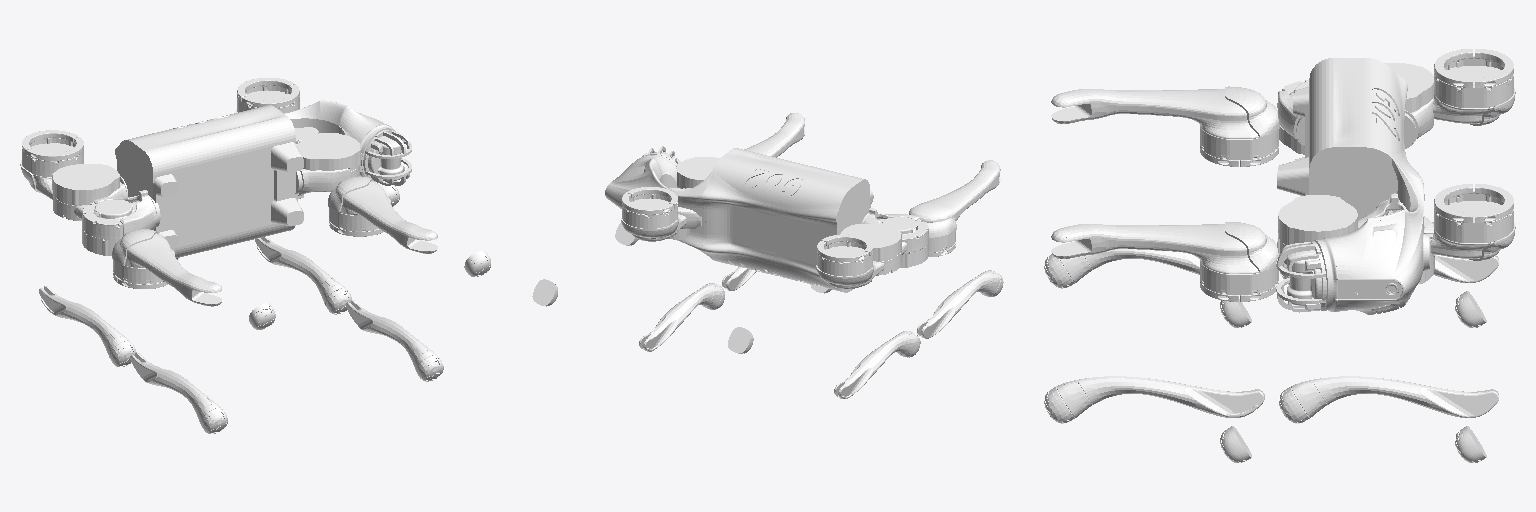
--- What the picture shows (computed from the rendered views, not written in the file) ---
Views: 3 orthographic renders of the robot side by side, from view 1: azimuth 30°, elevation 25°; view 2: azimuth 150°, elevation 25°; view 3: azimuth 270°, elevation 25°.
Robot: go2_description — 29 links, 28 joints (12 revolute, 16 fixed); root link base; default pose: all joints at 0 but 4 set to mid-range because 0 is outside their limits (FL_calf_joint = -1.78, FR_calf_joint = -1.78, RL_calf_joint = -1.78, RR_calf_joint = -1.78).
Visible links, largest first — view 1: base, FR_thigh, RR_thigh, RR_hip, FR_hip, RL_thigh, RL_hip, RR_calf, FR_calf, RL_calf, FL_calf, FL_thigh (+2 smaller); view 2: base, RR_thigh, RL_thigh, FL_thigh, FL_calf, RR_calf, RL_calf, RR_hip, RL_hip, FR_thigh, FR_hip, RL_foot (+2 smaller); view 3: base, RR_thigh, FR_thigh, FL_thigh, RL_thigh, FR_calf, FL_calf, FR_hip, RR_calf, RL_hip, RL_calf, RR_hip (+5 smaller).
Boxes of the visible links, left/top/right/bottom form: base: left=115, top=100, right=411, bottom=257; FR_thigh: left=328, top=176, right=437, bottom=253; RR_thigh: left=112, top=229, right=221, bottom=306; RR_hip: left=82, top=190, right=160, bottom=255; FR_hip: left=295, top=133, right=360, bottom=198; RL_thigh: left=20, top=130, right=128, bottom=220; RL_hip: left=52, top=164, right=127, bottom=220; RR_calf: left=130, top=353, right=227, bottom=433; FR_calf: left=346, top=300, right=443, bottom=381; RL_calf: left=39, top=286, right=136, bottom=366; FL_calf: left=255, top=237, right=351, bottom=314; FL_thigh: left=236, top=78, right=299, bottom=142; base: left=605, top=146, right=873, bottom=292; RR_thigh: left=909, top=160, right=1000, bottom=256; RL_thigh: left=816, top=228, right=916, bottom=288; FL_thigh: left=621, top=187, right=686, bottom=241; FL_calf: left=639, top=283, right=724, bottom=351; RR_calf: left=917, top=270, right=1003, bottom=338; RL_calf: left=834, top=331, right=920, bottom=398; RR_hip: left=861, top=208, right=928, bottom=267; RL_hip: left=840, top=224, right=901, bottom=275; FR_thigh: left=744, top=113, right=804, bottom=157; FR_hip: left=677, top=157, right=719, bottom=188; RL_foot: left=728, top=327, right=753, bottom=353; base: left=1276, top=58, right=1429, bottom=314; RR_thigh: left=1051, top=86, right=1279, bottom=166; FR_thigh: left=1051, top=222, right=1278, bottom=301; FL_thigh: left=1431, top=184, right=1515, bottom=260; RL_thigh: left=1289, top=49, right=1515, bottom=125; FR_calf: left=1044, top=376, right=1264, bottom=423; FL_calf: left=1279, top=376, right=1498, bottom=423; FR_hip: left=1277, top=195, right=1357, bottom=264; RR_calf: left=1044, top=249, right=1199, bottom=288; RL_hip: left=1385, top=63, right=1434, bottom=148; RL_calf: left=1280, top=255, right=1498, bottom=284; RR_hip: left=1277, top=80, right=1308, bottom=154.
Size in the robot's own frame: 0.6651 by 0.5701 by 0.3362 metres.
Meshes: 7 distinct files referenced, 17 mesh visuals loaded (7 binary STL).

The robot description file, URDF, robot "go2_description":
<?xml version="1.0" encoding="utf-8"?>
<!-- This URDF was automatically created by SolidWorks to URDF Exporter! Originally created by
Stephen Brawner ([email redacted]) 
     Commit Version: 1.6.0-4-g7f85cfe  Build Version: 1.6.7995.38578
     For more information, please see http://wiki.ros.org/sw_urdf_exporter -->
<robot
  name="go2_description">
  <link
    name="base">
    <inertial>
      <origin
        xyz="0.021112 0 -0.005366"
        rpy="0 0 0" />
      <mass
        value="6.921" />
      <inertia
        ixx="0.02448"
        ixy="0.00012166"
        ixz="0.0014849"
        iyy="0.098077"
        iyz="-3.12E-05"
        izz="0.107" />
    </inertial>
    <visual>
      <origin
        xyz="0 0 0"
        rpy="0 0 0" />
      <geometry>
        <mesh
          filename="package://ltm_go2_description/meshes/base.stl" />
      </geometry>
      <material
        name="">
        <color
          rgba="1 1 1 1" />
      </material>
    </visual>
    <collision>
      <origin rpy="0 0 0" xyz="0 0 0" />
      <geometry>
        <box size="0.3762 0.0935 0.114" />
      </geometry>
    </collision>
  </link>
  <link
    name="Head_upper">
    <inertial>
      <origin
        xyz="0 0 0"
        rpy="0 0 0" />
      <mass
        value="0.001" />
      <inertia
        ixx="9.6e-06"
        ixy="0"
        ixz="0"
        iyy="9.6e-06"
        iyz="0"
        izz="9.6e-06" />
    </inertial>
    <collision>
      <origin
        xyz="0 0 0"
        rpy="0 0 0" />
      <geometry>
        <cylinder radius="0.05" length="0.09" />
      </geometry>
    </collision>
  </link>
  <joint
    name="Head_upper_joint"
    type="fixed" dont_collapse="true">
    <origin
      xyz="0.285 0 0.01"
      rpy="0 0 0" />
    <parent
      link="base" />
    <child
      link="Head_upper" />
    <axis
      xyz="0 0 0" />
  </joint>
  <link
    name="Head_lower">
    <inertial>
      <origin
        xyz="0 0 0"
        rpy="0 0 0" />
      <mass
        value="0.001" />
      <inertia
        ixx="9.6e-06"
        ixy="0"
        ixz="0"
        iyy="9.6e-06"
        iyz="0"
        izz="9.6e-06" />
    </inertial>
    <collision>
      <origin
        xyz="0 0 0"
        rpy="0 0 0" />
      <geometry>
        <sphere radius="0.047" />
      </geometry>
    </collision>
  </link>
  <joint
    name="Head_lower_joint"
    type="fixed" dont_collapse="true">
    <origin
      xyz="0.008 0 -0.07"
      rpy="0 0 0" />
    <parent
      link="Head_upper" />
    <child
      link="Head_lower" />
    <axis
      xyz="0 0 0" />
  </joint>
  <link
    name="FL_hip">
    <inertial>
      <origin
        xyz="-0.0054 0.00194 -0.000105"
        rpy="0 0 0" />
      <mass
        value="0.678" />
      <inertia
        ixx="0.00048"
        ixy="-3.01E-06"
        ixz="1.11E-06"
        iyy="0.000884"
        iyz="-1.42E-06"
        izz="0.000596" />
    </inertial>
    <visual>
      <origin
        xyz="0 0 0"
        rpy="0 0 0" />
      <geometry>
        <mesh
          filename="package://ltm_go2_description/meshes/hip.stl" />
      </geometry>
      <material
        name="">
        <color
          rgba="1 1 1 1" />
      </material>
    </visual>
    <collision>
      <origin rpy="1.5707963267948966 0 0" xyz="0 0.08 0" />
      <geometry>
        <cylinder length="0.04" radius="0.046" />
      </geometry>
    </collision>
  </link>
  <joint
    name="FL_hip_joint"
    type="revolute">
    <origin
      xyz="0.1934 0.0465 0"
      rpy="0 0 0" />
    <parent
      link="base" />
    <child
      link="FL_hip" />
    <axis
      xyz="1 0 0" />
    <limit
      lower="-1.0472"
      upper="1.0472"
      effort="23.7"
      velocity="30.1" />
  </joint>
  <link
    name="FL_thigh">
    <inertial>
      <origin
        xyz="-0.00374 -0.0223 -0.0327"
        rpy="0 0 0" />
      <mass
        value="1.152" />
      <inertia
        ixx="0.00584"
        ixy="8.72E-05"
        ixz="-0.000289"
        iyy="0.0058"
        iyz="0.000808"
        izz="0.00103" />
    </inertial>
    <visual>
      <origin
        xyz="0 0 0"
        rpy="0 0 0" />
      <geometry>
        <mesh
          filename="package://ltm_go2_description/meshes/thigh.stl" />
      </geometry>
      <material
        name="">
        <color
          rgba="1 1 1 1" />
      </material>
    </visual>
    <collision>
      <origin rpy="0 1.5707963267948966 0" xyz="0 0 -0.1065" />
      <geometry>
        <box size="0.213 0.0245 0.034" />
      </geometry>
    </collision>
  </link>
  <joint
    name="FL_thigh_joint"
    type="revolute">
    <origin
      xyz="0 0.0955 0"
      rpy="0 0 0" />
    <parent
      link="FL_hip" />
    <child
      link="FL_thigh" />
    <axis
      xyz="0 1 0" />
    <limit
      lower="-1.5708"
      upper="3.4907"
      effort="23.7"
      velocity="30.1" />
  </joint>
  <link
    name="FL_calf">
    <inertial>
      <origin
        xyz="0.00548 -0.000975 -0.115"
        rpy="0 0 0" />
      <mass
        value="0.154" />
      <inertia
        ixx="0.00108"
        ixy="3.4E-07"
        ixz="1.72E-05"
        iyy="0.0011"
        iyz="8.28E-06"
        izz="3.29E-05" />
    </inertial>
    <visual>
      <origin
        xyz="0 0 0"
        rpy="0 0 0" />
      <geometry>
        <mesh
          filename="package://ltm_go2_description/meshes/calf.stl" />
      </geometry>
      <material
        name="">
        <color
          rgba="1 1 1 1" />
      </material>
    </visual>
    <collision>
      <origin rpy="0 -0.21 0" xyz="0.008 0 -0.06" />
      <geometry>
        <cylinder length="0.12" radius="0.012" />
      </geometry>
    </collision>
  </link>
  <joint
    name="FL_calf_joint"
    type="revolute">
    <origin
      xyz="0 0 -0.213"
      rpy="0 0 0" />
    <parent
      link="FL_thigh" />
    <child
      link="FL_calf" />
    <axis
      xyz="0 1 0" />
    <limit
      lower="-2.7227"
      upper="-0.83776"
      effort="45.43"
      velocity="15.70" />
  </joint>
  <link
    name="FL_calflower">
    <collision>
      <origin rpy="0 0 0" xyz="0 0 0" />
      <geometry>
        <cylinder length="0.065" radius="0.011" />
      </geometry>
    </collision>
  </link>
  <joint
    name="FL_calflower_joint"
    type="fixed">
    <origin
      xyz="0.020 0 -0.148"
      rpy="0 0.05 0" />
    <parent
      link="FL_calf" />
    <child
      link="FL_calflower" />
    <axis
      xyz="0 0 0" />
  </joint>
  <link
    name="FL_calflower1">
    <collision>
      <origin rpy="0 0 0" xyz="0 0 0" />
      <geometry>
        <cylinder length="0.03" radius="0.0155" />
      </geometry>
    </collision>
  </link>
  <joint
    name="FL_calflower1_joint"
    type="fixed">
    <origin
      xyz="-0.01 0 -0.04"
      rpy="0 0.48 0" />
    <parent
      link="FL_calflower" />
    <child
      link="FL_calflower1" />
    <axis
      xyz="0 0 0" />
  </joint>
  <link
    name="FL_foot">
    <inertial>
      <origin
        xyz="0 0 0"
        rpy="0 0 0" />
      <mass
        value="0.04" />
      <inertia
        ixx="9.6e-06"
        ixy="0"
        ixz="0"
        iyy="9.6e-06"
        iyz="0"
        izz="9.6e-06" />
    </inertial>
    <visual>
      <origin
        xyz="0 0 0"
        rpy="0 0 0" />
      <geometry>
        <mesh
          filename="package://ltm_go2_description/meshes/foot.stl" />
      </geometry>
      <material
        name="">
        <color
          rgba="1 1 1 1" />
      </material>
    </visual>
    <collision>
      <origin rpy="0 0 0" xyz="-0.002 0 0" />
      <geometry>
        <sphere radius="0.022" />
      </geometry>
    </collision>
  </link>
  <joint
    name="FL_foot_joint"
    type="fixed" dont_collapse="true">
    <origin
      xyz="0 0 -0.213"
      rpy="0 0 0" />
    <parent
      link="FL_calf" />
    <child
      link="FL_foot" />
    <axis
      xyz="0 0 0" />
  </joint>
  <link
    name="FR_hip">
    <inertial>
      <origin
        xyz="-0.0054 -0.00194 -0.000105"
        rpy="0 0 0" />
      <mass
        value="0.678" />
      <inertia
        ixx="0.00048"
        ixy="3.01E-06"
        ixz="1.11E-06"
        iyy="0.000884"
        iyz="1.42E-06"
        izz="0.000596" />
    </inertial>
    <visual>
      <origin
        xyz="0 0 0"
        rpy="3.1415 0 0" />
      <geometry>
        <mesh
          filename="package://ltm_go2_description/meshes/hip.stl" />
      </geometry>
      <material
        name="">
        <color
          rgba="1 1 1 1" />
      </material>
    </visual>
    <collision>
      <origin rpy="1.5707963267948966 0 0" xyz="0 -0.08 0" />
      <geometry>
        <cylinder length="0.04" radius="0.046" />
      </geometry>
    </collision>
  </link>
  <joint
    name="FR_hip_joint"
    type="revolute">
    <origin
      xyz="0.1934 -0.0465 0"
      rpy="0 0 0" />
    <parent
      link="base" />
    <child
      link="FR_hip" />
    <axis
      xyz="1 0 0" />
    <limit
      lower="-1.0472"
      upper="1.0472"
      effort="23.7"
      velocity="30.1" />
  </joint>
  <link
    name="FR_thigh">
    <inertial>
      <origin
        xyz="-0.00374 0.0223 -0.0327"
        rpy="0 0 0" />
      <mass
        value="1.152" />
      <inertia
        ixx="0.00584"
        ixy="-8.72E-05"
        ixz="-0.000289"
        iyy="0.0058"
        iyz="-0.000808"
        izz="0.00103" />
    </inertial>
    <visual>
      <origin
        xyz="0 0 0"
        rpy="0 0 0" />
      <geometry>
        <mesh
          filename="package://ltm_go2_description/meshes/thigh_mirror.stl" />
      </geometry>
      <material
        name="">
        <color
          rgba="1 1 1 1" />
      </material>
    </visual>
    <collision>
      <origin rpy="0 1.5707963267948966 0" xyz="0 0 -0.1065" />
      <geometry>
        <box size="0.213 0.0245 0.034" />
      </geometry>
    </collision>
  </link>
  <joint
    name="FR_thigh_joint"
    type="revolute">
    <origin
      xyz="0 -0.0955 0"
      rpy="0 0 0" />
    <parent
      link="FR_hip" />
    <child
      link="FR_thigh" />
    <axis
      xyz="0 1 0" />
    <limit
      lower="-1.5708"
      upper="3.4907"
      effort="23.7"
      velocity="30.1" />
  </joint>
  <link
    name="FR_calf">
    <inertial>
      <origin
        xyz="0.00548 0.000975 -0.115"
        rpy="0 0 0" />
      <mass
        value="0.154" />
      <inertia
        ixx="0.00108"
        ixy="-3.4E-07"
        ixz="1.72E-05"
        iyy="0.0011"
        iyz="-8.28E-06"
        izz="3.29E-05" />
    </inertial>
    <visual>
      <origin
        xyz="0 0 0"
        rpy="0 0 0" />
      <geometry>
        <mesh
          filename="package://ltm_go2_description/meshes/calf_mirror.stl" />
      </geometry>
      <material
        name="">
        <color
          rgba="1 1 1 1" />
      </material>
    </visual>
    <collision>
      <origin rpy="0 -0.2 0" xyz="0.01 0 -0.06" />
      <geometry>
        <cylinder length="0.12" radius="0.013" />
      </geometry>
    </collision>
  </link>
  <joint
    name="FR_calf_joint"
    type="revolute">
    <origin
      xyz="0 0 -0.213"
      rpy="0 0 0" />
    <parent
      link="FR_thigh" />
    <child
      link="FR_calf" />
    <axis
      xyz="0 1 0" />
    <limit
      lower="-2.7227"
      upper="-0.83776"
      effort="45.43"
      velocity="15.70" />
  </joint>
  <link
    name="FR_calflower">
    <collision>
      <origin rpy="0 0 0" xyz="0 0 0" />
      <geometry>
        <cylinder length="0.065" radius="0.011" />
      </geometry>
    </collision>
  </link>
  <joint
    name="FR_calflower_joint"
    type="fixed">
    <origin
      xyz="0.020 0 -0.148"
      rpy="0 0.05 0" />
    <parent
      link="FR_calf" />
    <child
      link="FR_calflower" />
    <axis
      xyz="0 0 0" />
  </joint>
  <link
    name="FR_calflower1">
    <collision>
      <origin rpy="0 0 0" xyz="0 0 0" />
      <geometry>
        <cylinder length="0.03" radius="0.0155" />
      </geometry>
    </collision>
  </link>
  <joint
    name="FR_calflower1_joint"
    type="fixed">
    <origin
      xyz="-0.01 0 -0.04"
      rpy="0 0.48 0" />
    <parent
      link="FR_calflower" />
    <child
      link="FR_calflower1" />
    <axis
      xyz="0 0 0" />
  </joint>
  <link
    name="FR_foot">
    <inertial>
      <origin
        xyz="0 0 0"
        rpy="0 0 0" />
      <mass
        value="0.04" />
      <inertia
        ixx="9.6e-06"
        ixy="0"
        ixz="0"
        iyy="9.6e-06"
        iyz="0"
        izz="9.6e-06" />
    </inertial>
    <visual>
      <origin
        xyz="0 0 0"
        rpy="0 0 0" />
      <geometry>
        <mesh
          filename="package://ltm_go2_description/meshes/foot.stl" />
      </geometry>
      <material
        name="">
        <color
          rgba="1 1 1 1" />
      </material>
    </visual>
    <collision>
      <origin rpy="0 0 0" xyz="-0.002 0 0" />
      <geometry>
        <sphere radius="0.022" />
      </geometry>
    </collision>
  </link>
  <joint
    name="FR_foot_joint"
    type="fixed" dont_collapse="true">
    <origin
      xyz="0 0 -0.213"
      rpy="0 0 0" />
    <parent
      link="FR_calf" />
    <child
      link="FR_foot" />
    <axis
      xyz="0 0 0" />
  </joint>
  <link
    name="RL_hip">
    <inertial>
      <origin
        xyz="0.0054 0.00194 -0.000105"
        rpy="0 0 0" />
      <mass
        value="0.678" />
      <inertia
        ixx="0.00048"
        ixy="3.01E-06"
        ixz="-1.11E-06"
        iyy="0.000884"
        iyz="-1.42E-06"
        izz="0.000596" />
    </inertial>
    <visual>
      <origin
        xyz="0 0 0"
        rpy="0 3.1415 0" />
      <geometry>
        <mesh
          filename="package://ltm_go2_description/meshes/hip.stl" />
      </geometry>
      <material
        name="">
        <color
          rgba="1 1 1 1" />
      </material>
    </visual>
    <collision>
      <origin rpy="1.5707963267948966 0 0" xyz="0 0.08 0" />
      <geometry>
        <cylinder length="0.04" radius="0.046" />
      </geometry>
    </collision>
  </link>
  <joint
    name="RL_hip_joint"
    type="revolute">
    <origin
      xyz="-0.1934 0.0465 0"
      rpy="0 0 0" />
    <parent
      link="base" />
    <child
      link="RL_hip" />
    <axis
      xyz="1 0 0" />
    <limit
      lower="-1.0472"
      upper="1.0472"
      effort="23.7"
      velocity="30.1" />
  </joint>
  <link
    name="RL_thigh">
    <inertial>
      <origin
        xyz="-0.00374 -0.0223 -0.0327"
        rpy="0 0 0" />
      <mass
        value="1.152" />
      <inertia
        ixx="0.00584"
        ixy="8.72E-05"
        ixz="-0.000289"
        iyy="0.0058"
        iyz="0.000808"
        izz="0.00103" />
    </inertial>
    <visual>
      <origin
        xyz="0 0 0"
        rpy="0 0 0" />
      <geometry>
        <mesh
          filename="package://ltm_go2_description/meshes/thigh.stl" />
      </geometry>
      <material
        name="">
        <color
          rgba="1 1 1 1" />
      </material>
    </visual>
    <collision>
      <origin rpy="0 1.5707963267948966 0" xyz="0 0 -0.1065" />
      <geometry>
        <box size="0.213 0.0245 0.034" />
      </geometry>
    </collision>
  </link>
  <joint
    name="RL_thigh_joint"
    type="revolute">
    <origin
      xyz="0 0.0955 0"
      rpy="0 0 0" />
    <parent
      link="RL_hip" />
    <child
      link="RL_thigh" />
    <axis
      xyz="0 1 0" />
    <limit
      lower="-0.5236"
      upper="4.5379"
      effort="23.7"
      velocity="30.1" />
  </joint>
  <link
    name="RL_calf">
    <inertial>
      <origin
        xyz="0.00548 -0.000975 -0.115"
        rpy="0 0 0" />
      <mass
        value="0.154" />
      <inertia
        ixx="0.00108"
        ixy="3.4E-07"
        ixz="1.72E-05"
        iyy="0.0011"
        iyz="8.28E-06"
        izz="3.29E-05" />
    </inertial>
    <visual>
      <origin
        xyz="0 0 0"
        rpy="0 0 0" />
      <geometry>
        <mesh
          filename="package://ltm_go2_description/meshes/calf.stl" />
      </geometry>
      <material
        name="">
        <color
          rgba="1 1 1 1" />
      </material>
    </visual>
    <collision>
      <origin rpy="0 -0.2 0" xyz="0.01 0 -0.06" />
      <geometry>
        <cylinder length="0.12" radius="0.013" />
      </geometry>
    </collision>
  </link>
  <joint
    name="RL_calf_joint"
    type="revolute">
    <origin
      xyz="0 0 -0.213"
      rpy="0 0 0" />
    <parent
      link="RL_thigh" />
    <child
      link="RL_calf" />
    <axis
      xyz="0 1 0" />
    <limit
      lower="-2.7227"
      upper="-0.83776"
      effort="45.43"
      velocity="15.70" />
  </joint>
  <link
    name="RL_calflower">
    <collision>
      <origin rpy="0 0 0" xyz="0 0 0" />
      <geometry>
        <cylinder length="0.065" radius="0.011" />
      </geometry>
    </collision>
  </link>
  <joint
    name="RL_calflower_joint"
    type="fixed">
    <origin
      xyz="0.020 0 -0.148"
      rpy="0 0.05 0" />
    <parent
      link="RL_calf" />
    <child
      link="RL_calflower" />
    <axis
      xyz="0 0 0" />
  </joint>
  <link
    name="RL_calflower1">
    <collision>
      <origin rpy="0 0 0" xyz="0 0 0" />
      <geometry>
        <cylinder length="0.03" radius="0.0155" />
      </geometry>
    </collision>
  </link>
  <joint
    name="RL_calflower1_joint"
    type="fixed">
    <origin
      xyz="-0.01 0 -0.04"
      rpy="0 0.48 0" />
    <parent
      link="RL_calflower" />
    <child
      link="RL_calflower1" />
    <axis
      xyz="0 0 0" />
  </joint>
  <link
    name="RL_foot">
    <inertial>
      <origin
        xyz="0 0 0"
        rpy="0 0 0" />
      <mass
        value="0.04" />
      <inertia
        ixx="9.6e-06"
        ixy="0"
        ixz="0"
        iyy="9.6e-06"
        iyz="0"
        izz="9.6e-06" />
    </inertial>
    <visual>
      <origin
        xyz="0 0 0"
        rpy="0 0 0" />
      <geometry>
        <mesh
          filename="package://ltm_go2_description/meshes/foot.stl" />
      </geometry>
      <material
        name="">
        <color
          rgba="1 1 1 1" />
      </material>
    </visual>
    <collision>
      <origin rpy="0 0 0" xyz="-0.002 0 0" />
      <geometry>
        <sphere radius="0.022" />
      </geometry>
    </collision>
  </link>
  <joint
    name="RL_foot_joint"
    type="fixed" dont_collapse="true">
    <origin
      xyz="0 0 -0.213"
      rpy="0 0 0" />
    <parent
      link="RL_calf" />
    <child
      link="RL_foot" />
    <axis
      xyz="0 0 0" />
  </joint>
  <link
    name="RR_hip">
    <inertial>
      <origin
        xyz="0.0054 -0.00194 -0.000105"
        rpy="0 0 0" />
      <mass
        value="0.678" />
      <inertia
        ixx="0.00048"
        ixy="-3.01E-06"
        ixz="-1.11E-06"
        iyy="0.000884"
        iyz="1.42E-06"
        izz="0.000596" />
    </inertial>
    <visual>
      <origin
        xyz="0 0 0"
        rpy="3.1415 3.1415 0" />
      <geometry>
        <mesh
          filename="package://ltm_go2_description/meshes/hip.stl" />
      </geometry>
      <material
        name="">
        <color
          rgba="1 1 1 1" />
      </material>
    </visual>
    <collision>
      <origin rpy="1.5707963267948966 0 0" xyz="0 -0.08 0" />
      <geometry>
        <cylinder length="0.04" radius="0.046" />
      </geometry>
    </collision>
  </link>
  <joint
    name="RR_hip_joint"
    type="revolute">
    <origin
      xyz="-0.1934 -0.0465 0"
      rpy="0 0 0" />
    <parent
      link="base" />
    <child
      link="RR_hip" />
    <axis
      xyz="1 0 0" />
    <limit
      lower="-1.0472"
      upper="1.0472"
      effort="23.7"
      velocity="30.1" />
  </joint>
  <link
    name="RR_thigh">
    <inertial>
      <origin
        xyz="-0.00374 0.0223 -0.0327"
        rpy="0 0 0" />
      <mass
        value="1.152" />
      <inertia
        ixx="0.00584"
        ixy="-8.72E-05"
        ixz="-0.000289"
        iyy="0.0058"
        iyz="-0.000808"
        izz="0.00103" />
    </inertial>
    <visual>
      <origin
        xyz="0 0 0"
        rpy="0 0 0" />
      <geometry>
        <mesh
          filename="package://ltm_go2_description/meshes/thigh_mirror.stl" />
      </geometry>
      <material
        name="">
        <color
          rgba="1 1 1 1" />
      </material>
    </visual>
    <collision>
      <origin rpy="0 1.5707963267948966 0" xyz="0 0 -0.1065" />
      <geometry>
        <box size="0.213 0.0245 0.034" />
      </geometry>
    </collision>
  </link>
  <joint
    name="RR_thigh_joint"
    type="revolute">
    <origin
      xyz="0 -0.0955 0"
      rpy="0 0 0" />
    <parent
      link="RR_hip" />
    <child
      link="RR_thigh" />
    <axis
      xyz="0 1 0" />
    <limit
      lower="-0.5236"
      upper="4.5379"
      effort="23.7"
      velocity="30.1" />
  </joint>
  <link
    name="RR_calf">
    <inertial>
      <origin
        xyz="0.00548 0.000975 -0.115"
        rpy="0 0 0" />
      <mass
        value="0.154" />
      <inertia
        ixx="0.00108"
        ixy="-3.4E-07"
        ixz="1.72E-05"
        iyy="0.0011"
        iyz="-8.28E-06"
        izz="3.29E-05" />
    </inertial>
    <visual>
      <origin
        xyz="0 0 0"
        rpy="0 0 0" />
      <geometry>
        <mesh
          filename="package://ltm_go2_description/meshes/calf_mirror.stl" />
      </geometry>
      <material
        name="">
        <color
          rgba="1 1 1 1" />
      </material>
    </visual>
    <collision>
      <origin rpy="0 -0.2 0" xyz="0.01 0 -0.06" />
      <geometry>
        <cylinder length="0.12" radius="0.013" />
      </geometry>
    </collision>
  </link>
  <joint
    name="RR_calf_joint"
    type="revolute">
    <origin
      xyz="0 0 -0.213"
      rpy="0 0 0" />
    <parent
      link="RR_thigh" />
    <child
      link="RR_calf" />
    <axis
      xyz="0 1 0" />
    <limit
      lower="-2.7227"
      upper="-0.83776"
      effort="45.43"
      velocity="15.70" />
  </joint>
  <link
    name="RR_calflower">
    <collision>
      <origin rpy="0 0 0" xyz="0 0 0" />
      <geometry>
        <cylinder length="0.065" radius="0.011" />
      </geometry>
    </collision>
  </link>
  <joint
    name="RR_calflower_joint"
    type="fixed">
    <origin
      xyz="0.020 0 -0.148"
      rpy="0 0.05 0" />
    <parent
      link="RR_calf" />
    <child
      link="RR_calflower" />
    <axis
      xyz="0 0 0" />
  </joint>
  <link
    name="RR_calflower1">
    <collision>
      <origin rpy="0 0 0" xyz="0 0 0" />
      <geometry>
        <cylinder length="0.03" radius="0.0155" />
      </geometry>
    </collision>
  </link>
  <joint
    name="RR_calflower1_joint"
    type="fixed">
    <origin
      xyz="-0.01 0 -0.04"
      rpy="0 0.48 0" />
    <parent
      link="RR_calflower" />
    <child
      link="RR_calflower1" />
    <axis
      xyz="0 0 0" />
  </joint>
  <link
    name="RR_foot">
    <inertial>
      <origin
        xyz="0 0 0"
        rpy="0 0 0" />
      <mass
        value="0.04" />
      <inertia
        ixx="9.6e-06"
        ixy="0"
        ixz="0"
        iyy="9.6e-06"
        iyz="0"
        izz="9.6e-06" />
    </inertial>
    <visual>
      <origin
        xyz="0 0 0"
        rpy="0 0 0" />
      <geometry>
        <mesh
          filename="package://ltm_go2_description/meshes/foot.stl" />
      </geometry>
      <material
        name="">
        <color
          rgba="1 1 1 1" />
      </material>
    </visual>
    <collision>
      <origin rpy="0 0 0" xyz="-0.002 0 0" />
      <geometry>
        <sphere radius="0.022" />
      </geometry>
    </collision>
  </link>
  <joint
    name="RR_foot_joint"
    type="fixed" dont_collapse="true">
    <origin
      xyz="0 0 -0.213"
      rpy="0 0 0" />
    <parent
      link="RR_calf" />
    <child
      link="RR_foot" />
    <axis
      xyz="0 0 0" />
  </joint>
  <link
    name="imu">
    <inertial>
      <origin
        xyz="0 0 0"
        rpy="0 0 0" />
      <mass
        value="0" />
      <inertia
        ixx="0"
        ixy="0"
        ixz="0"
        iyy="0"
        iyz="0"
        izz="0" />
    </inertial>
  </link>
  <joint
    name="imu_joint"
    type="fixed">
    <origin
      xyz="-0.02557 0 0.04232"
      rpy="0 0 0" />
    <parent
      link="base" />
    <child
      link="imu" />
    <axis
      xyz="0 0 0" />
  </joint>
  <link
    name="radar">
    <inertial>
      <origin
        xyz="0 0 0"
        rpy="0 0 0" />
      <mass
        value="0" />
      <inertia
        ixx="0"
        ixy="0"
        ixz="0"
        iyy="0"
        iyz="0"
        izz="0" />
    </inertial>
  </link>
  <joint
    name="radar_joint"
    type="fixed">
    <origin
      xyz="0.28945 0 -0.046825"
      rpy="0 2.8782 0" />
    <parent
      link="base" />
    <child
      link="radar" />
    <axis
      xyz="0 0 0" />
  </joint>
</robot>
